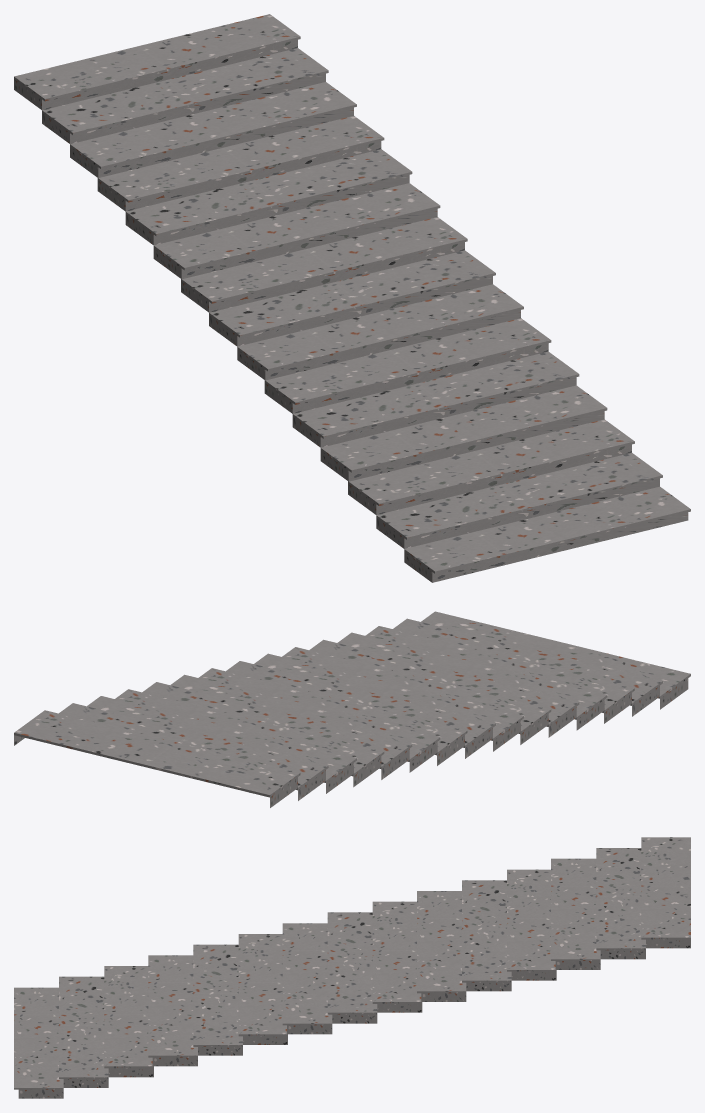
File: stair.fbx
3 renders of one model, top to bottom at view 1: azimuth 30°, elevation 25°; view 2: azimuth 150°, elevation 25°; view 3: azimuth 270°, elevation 25°, orthographic. The views are drawn at different scales.
Parts seen in each view (by area): view 1: Stairs.005; view 2: Stairs.005; view 3: Stairs.005.
Part boxes in pixels (bbox=[...]): Stairs.005: bbox=[14, 14, 690, 582]; Stairs.005: bbox=[14, 611, 690, 807]; Stairs.005: bbox=[14, 837, 690, 1098].
Bounding box in the file's own units: 394 × 294 × 1122.
